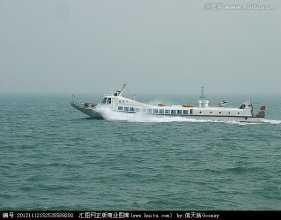otherboat: (66, 86, 272, 122)
